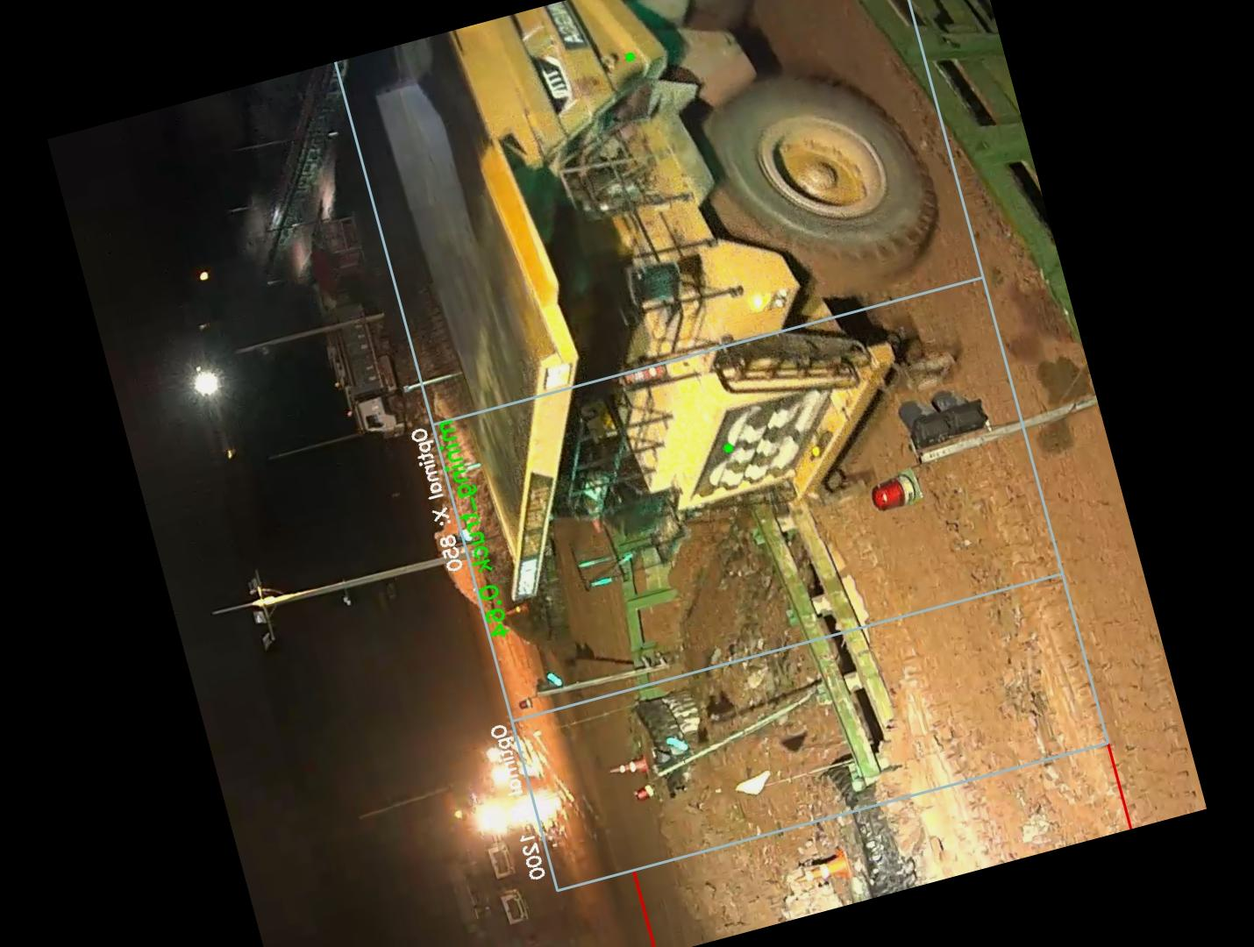company: (507, 0, 590, 65)
empty_load: (357, 21, 581, 407)
mining_truck: (324, 0, 1011, 614)
truck_size: (524, 46, 587, 126)
